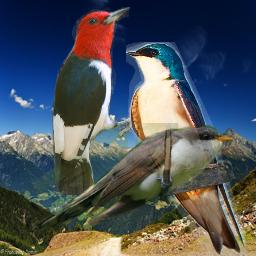Cuckoo: (27, 123, 233, 231)
Swallow: (126, 42, 246, 255)
Woodpecker: (51, 7, 153, 195)
